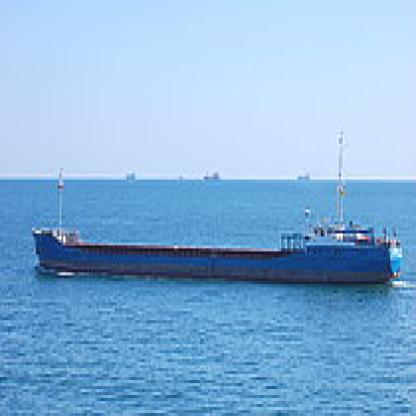Tanker: (30, 159, 408, 296)
